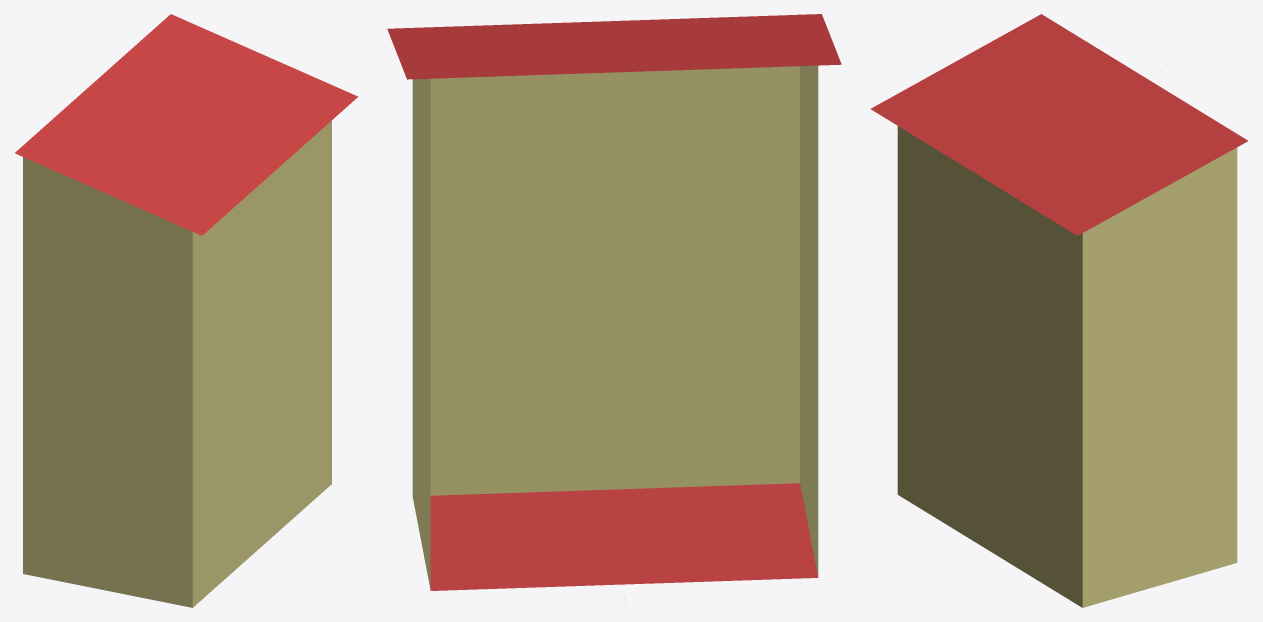
3 renders of one model, left to right at view 1: azimuth 30°, elevation 25°; view 2: azimuth 150°, elevation 25°; view 3: azimuth 270°, elevation 25°, orthographic. The views are drawn at different scales.
Bounding box in the file's own units: 10.57 × 9.56 × 12.35.
